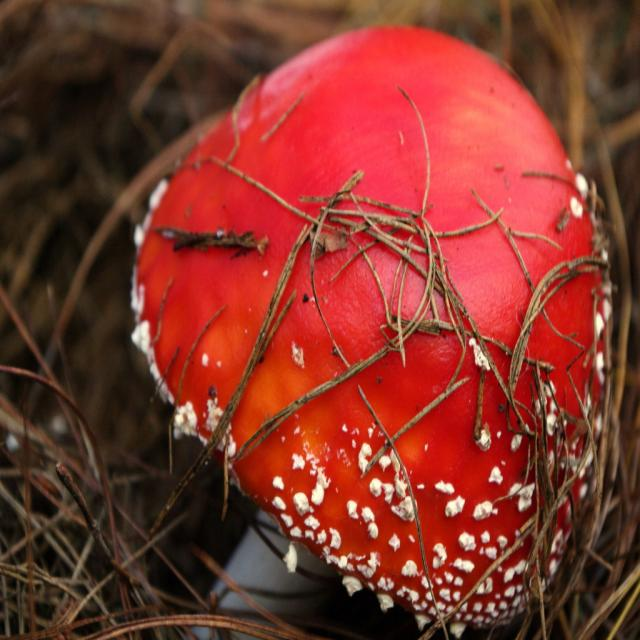Mushroom: (110, 24, 605, 640)
